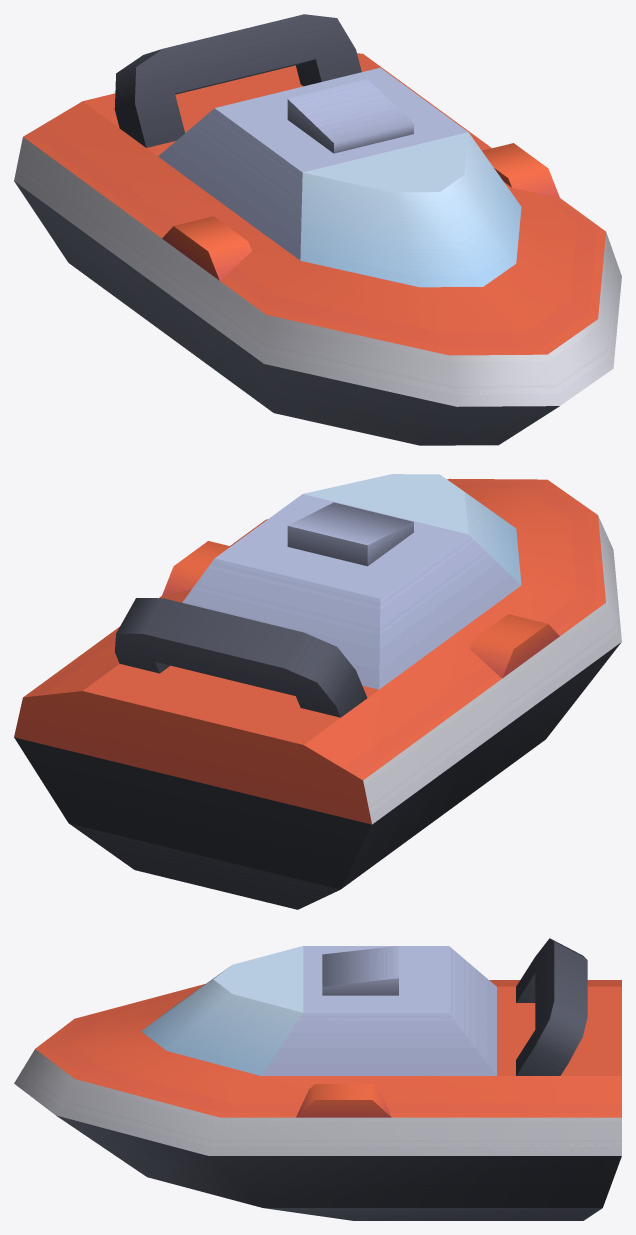
Rendered from boat_speed_c.glb.
3 renders of one model, top to bottom at view 1: azimuth 30°, elevation 25°; view 2: azimuth 150°, elevation 25°; view 3: azimuth 270°, elevation 25°, orthographic. The views are drawn at different scales.
Visible parts, largest first — view 1: boat-speed-c; view 2: boat-speed-c; view 3: boat-speed-c.
Boxes of the visible parts, x1,y1,x2,y2 form: boat-speed-c: (14, 14, 621, 445); boat-speed-c: (14, 474, 621, 909); boat-speed-c: (14, 938, 621, 1220).
Bounding box in the file's own units: 1.78 × 1.3 × 3.17.
1 material, 1 textured.
